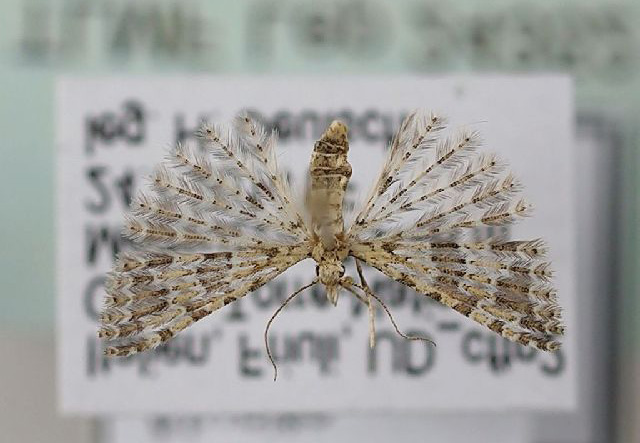Alucitidae: (90, 98, 567, 388)
moth: (92, 100, 569, 390)
